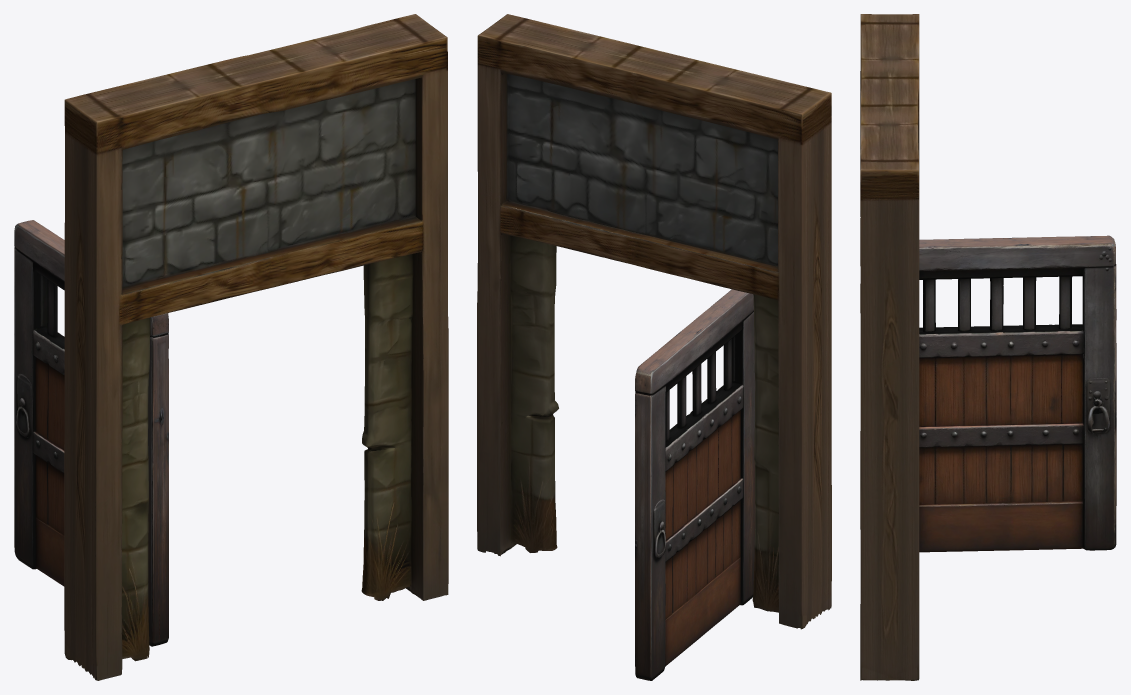
File: blk_door_open.glb
3 views of the same model, side by side, from view 1: azimuth 30°, elevation 25°; view 2: azimuth 150°, elevation 25°; view 3: azimuth 270°, elevation 25° (orthographic). The views are drawn at different scales.
Parts seen in each view (by area): view 1: Meshy_AI_Dungeon_Gate_1215093133_texture, model; view 2: Meshy_AI_Dungeon_Gate_1215093133_texture, model; view 3: model, Meshy_AI_Dungeon_Gate_1215093133_texture.
Boxes of the visible parts, <box> form: Meshy_AI_Dungeon_Gate_1215093133_texture: <box>64,14,448,680</box>; model: <box>14,220,168,646</box>; Meshy_AI_Dungeon_Gate_1215093133_texture: <box>477,14,831,629</box>; model: <box>635,289,755,680</box>; model: <box>919,235,1116,552</box>; Meshy_AI_Dungeon_Gate_1215093133_texture: <box>860,14,919,680</box>.
Bounding box in the file's own units: 2.01 × 3.05 × 1.38.
2 materials, 2 textured.
